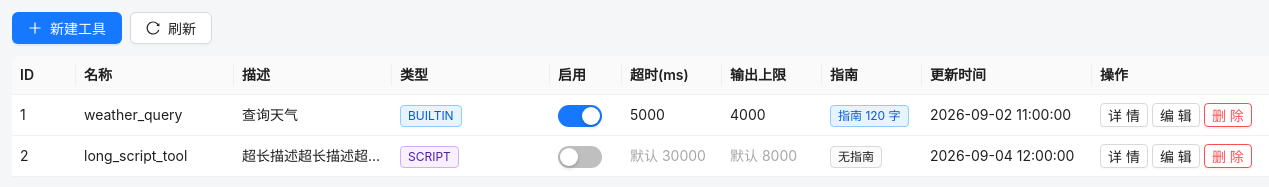
Test: 工具注册表 › Switch 切换发 PATCH {"enabled":x} 且带头；请求中控件 loading；成功提示并保持新值（AC-22）
Expected: the text "weather_query" is shown, [76,95,234,136]
Click the switch in the row of "long_script_tool": (580, 157) [558,146,602,168]
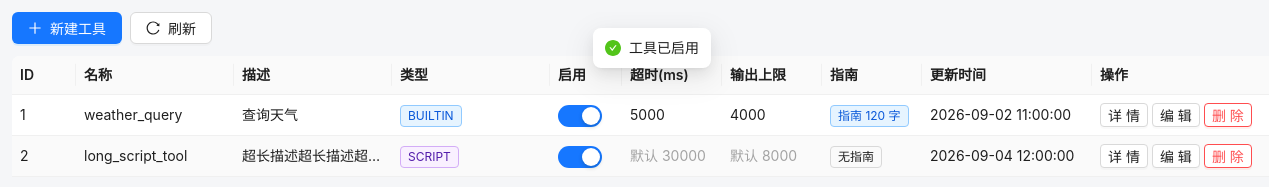
Result: the switch in the row of "long_script_tool" is checked at [558,146,602,168]
Result: the text "工具已启用" is shown at [629,37,699,59]
